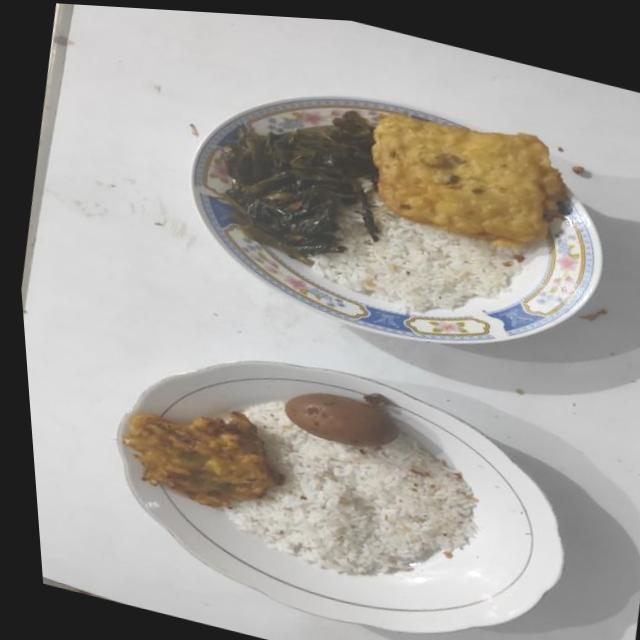nasi_putih: (226, 402, 477, 576), (314, 180, 528, 314)
tumis_kangkung: (222, 110, 379, 264)
